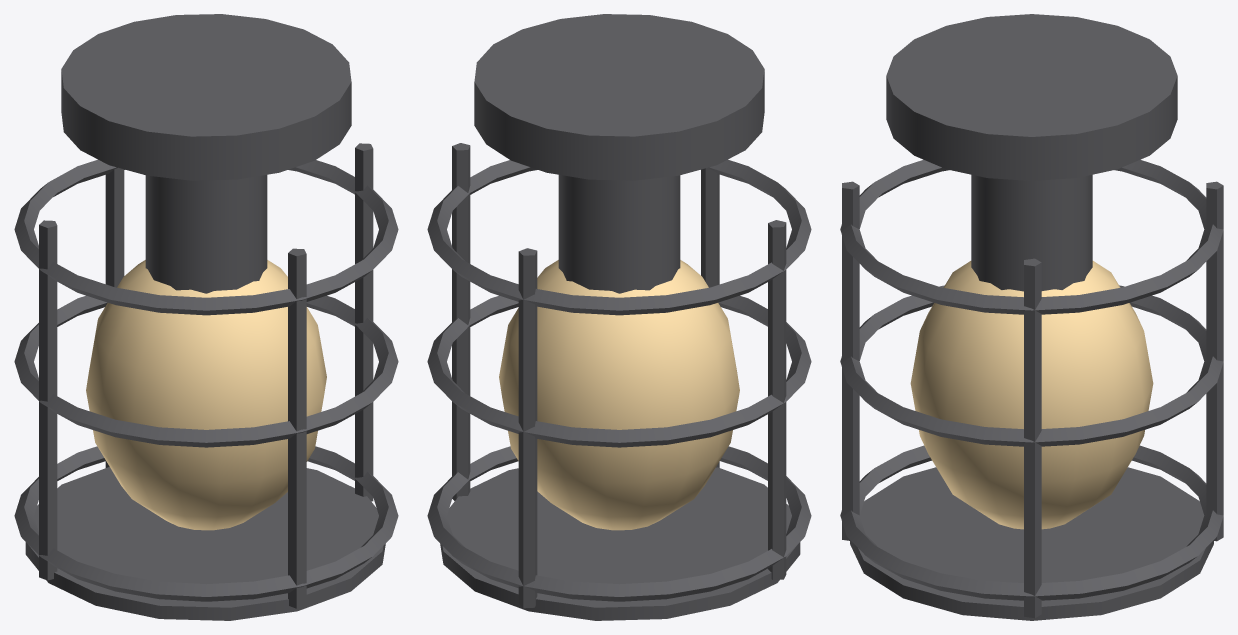
File: SM_LightBulb.fbx
The picture shows the model from 3 angles, left to right: view 1: azimuth 30°, elevation 25°; view 2: azimuth 150°, elevation 25°; view 3: azimuth 270°, elevation 25°; orthographic projection.
Parts seen in each view (by area): view 1: SM_LightBulb; view 2: SM_LightBulb; view 3: SM_LightBulb.
Part boxes in pixels (x1,y1,x2,y2): SM_LightBulb: (14,14,398,620); SM_LightBulb: (427,14,811,620); SM_LightBulb: (840,14,1223,620).
Size of the model in its own units: 15.8 by 21.3 by 15.8.
